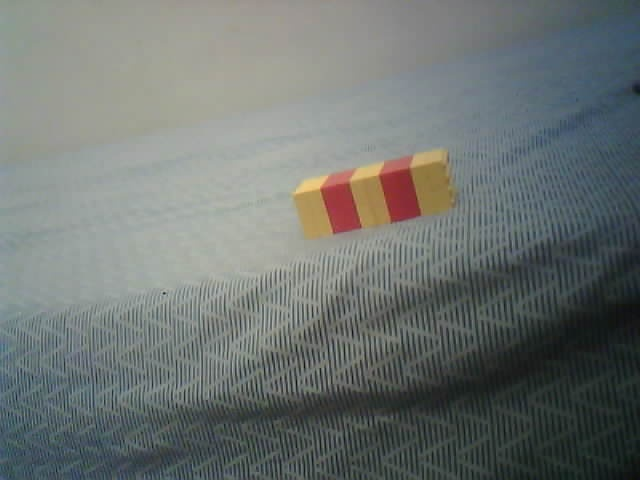lego: (291, 147, 455, 240)
